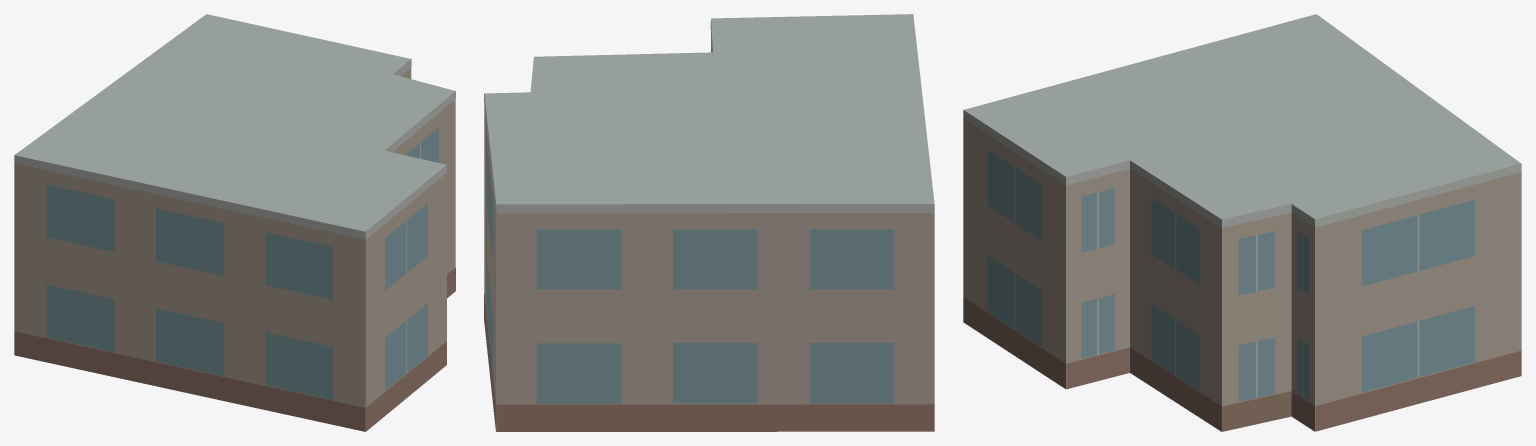
Rendered from survey-upis-32759925.glb.
3 renders of one model, left to right at view 1: azimuth 30°, elevation 25°; view 2: azimuth 150°, elevation 25°; view 3: azimuth 270°, elevation 25°, orthographic. The views are drawn at different scales.
Parts seen in each view (by area): view 1: survey-upis-32759925.tmp; view 2: survey-upis-32759925.tmp; view 3: survey-upis-32759925.tmp.
Boxes of the visible parts, x1,y1,x2,y2 form: survey-upis-32759925.tmp: (14, 14, 455, 431); survey-upis-32759925.tmp: (484, 14, 934, 431); survey-upis-32759925.tmp: (963, 14, 1521, 431).
Bounding box in the file's own units: 12.67 × 6.1 × 14.54.
